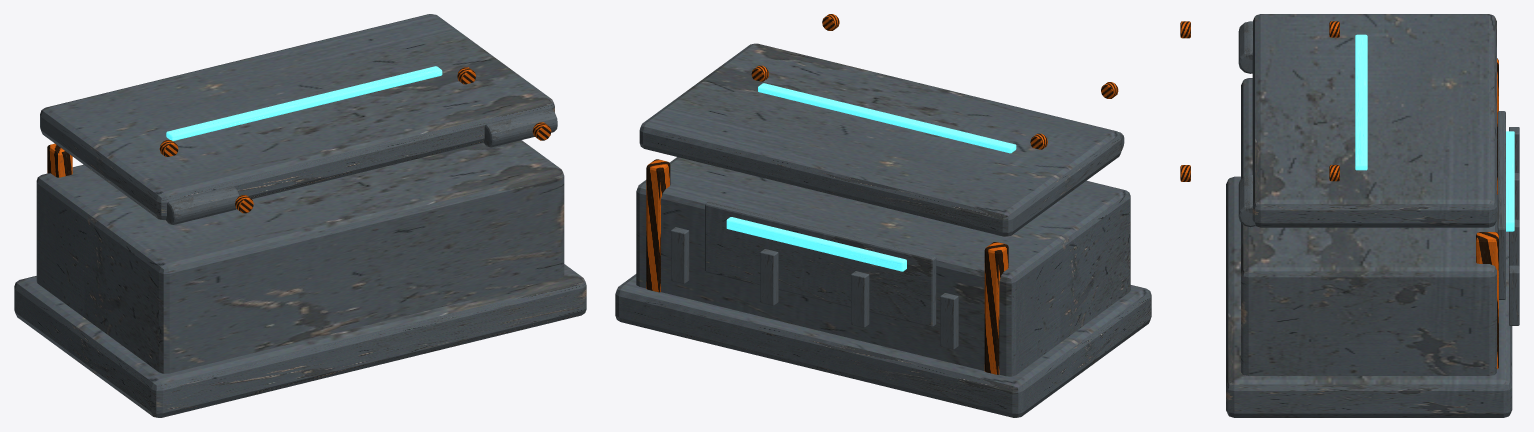
File: tech_cache.glb
3 views of the same model, side by side, from view 1: azimuth 30°, elevation 25°; view 2: azimuth 150°, elevation 25°; view 3: azimuth 270°, elevation 25° (orthographic). The views are drawn at different scales.
Visible parts, largest first — view 1: CacheLowerHull, TechCacheLid, CacheBase, LidEnergyRail, LidHinge_-0.95, LidHinge_0.95, CacheCornerRail_-1.08; view 2: TechCacheLid, CacheLowerHull, CacheBase, CacheFacePanel, LidEnergyRail, CacheStatusStrip, CacheCornerRail_-1.08, CacheCornerRail_1.08, CacheVent_-0.86, CacheVent_0.29, CacheVent_0.86, CacheVent_-0.29; view 3: TechCacheLid, CacheLowerHull, CacheBase, LidEnergyRail, CacheFacePanel, CacheCornerRail_1.08, CacheStatusStrip, LidHinge_0.95, LidHinge_-0.95, CacheVent_0.86, CacheVent_0.29.
Boxes of the visible parts, x1=… form: CacheLowerHull: x1=36, y1=140, x2=564, y2=373; TechCacheLid: x1=40, y1=14, x2=554, y2=220; CacheBase: x1=14, y1=264, x2=586, y2=417; LidEnergyRail: x1=166, y1=66, x2=442, y2=140; LidHinge_-0.95: x1=165, y1=186, x2=239, y2=224; LidHinge_0.95: x1=483, y1=108, x2=557, y2=147; CacheCornerRail_-1.08: x1=47, y1=143, x2=72, y2=177; TechCacheLid: x1=639, y1=43, x2=1121, y2=236; CacheLowerHull: x1=636, y1=157, x2=1130, y2=376; CacheBase: x1=615, y1=274, x2=1151, y2=417; CacheFacePanel: x1=705, y1=201, x2=936, y2=327; LidEnergyRail: x1=758, y1=83, x2=1016, y2=153; CacheStatusStrip: x1=726, y1=217, x2=906, y2=271; CacheCornerRail_-1.08: x1=984, y1=242, x2=1008, y2=374; CacheCornerRail_1.08: x1=646, y1=159, x2=670, y2=292; CacheVent_-0.86: x1=940, y1=293, x2=958, y2=349; CacheVent_0.29: x1=760, y1=249, x2=778, y2=305; CacheVent_0.86: x1=671, y1=227, x2=689, y2=283; CacheVent_-0.29: x1=851, y1=271, x2=869, y2=327; TechCacheLid: x1=1252, y1=14, x2=1496, y2=227; CacheLowerHull: x1=1241, y1=78, x2=1496, y2=375; CacheBase: x1=1226, y1=176, x2=1512, y2=417; LidEnergyRail: x1=1355, y1=34, x2=1367, y2=170; CacheFacePanel: x1=1497, y1=111, x2=1505, y2=299; CacheCornerRail_1.08: x1=1476, y1=232, x2=1498, y2=368; CacheStatusStrip: x1=1506, y1=131, x2=1514, y2=231; LidHinge_0.95: x1=1238, y1=174, x2=1255, y2=227; LidHinge_-0.95: x1=1238, y1=21, x2=1252, y2=73; CacheVent_0.86: x1=1509, y1=265, x2=1519, y2=325; CacheVent_0.29: x1=1509, y1=219, x2=1519, y2=266.
Size of the model in its own units: 2.6 by 1.33 by 1.78.
Materials: 4 (4 with a texture image).
